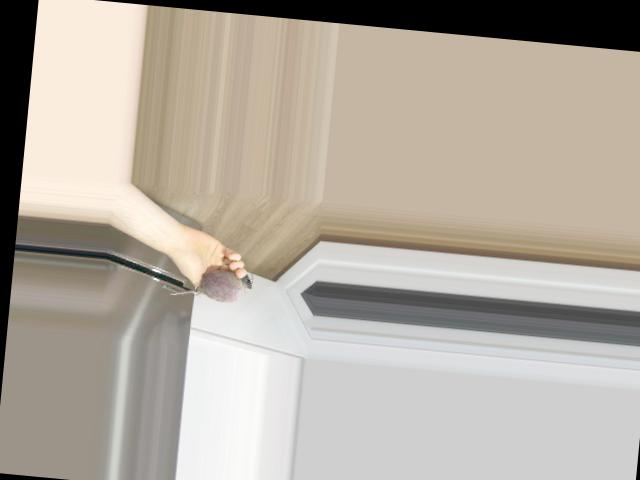beet: (170, 264, 254, 304)
